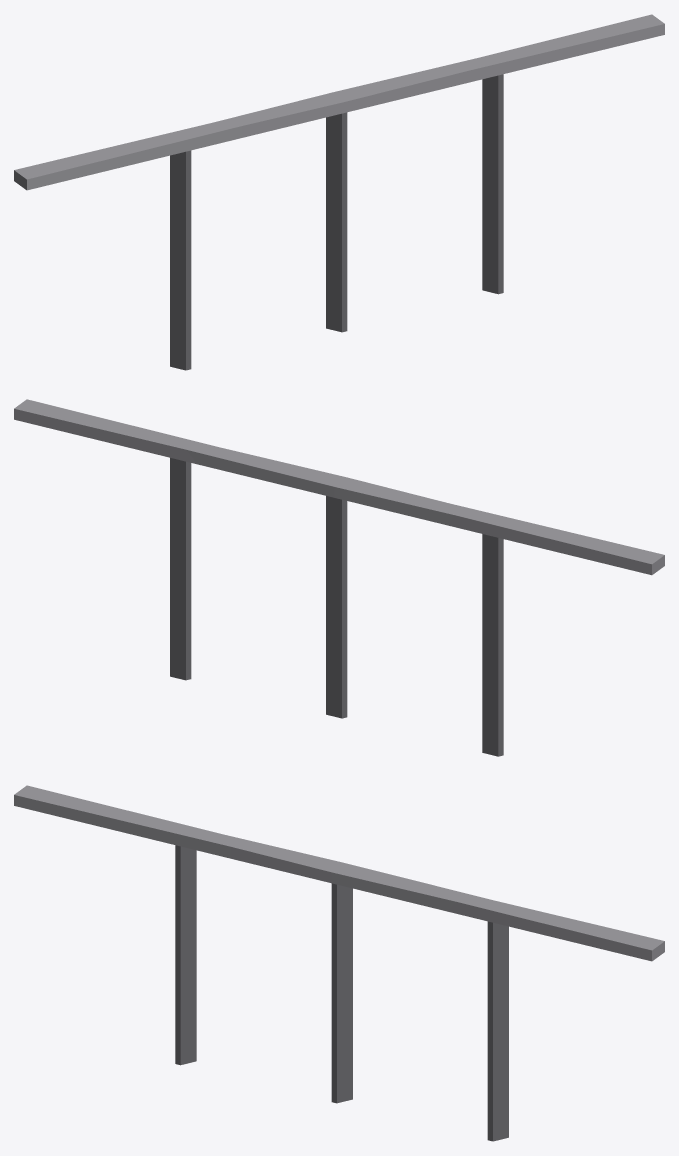
The model's file is worlds_SM_Bld_Railing_01.gltf.
3 views of the same model, one above another, from view 1: azimuth 30°, elevation 25°; view 2: azimuth 150°, elevation 25°; view 3: azimuth 330°, elevation 25° (orthographic).
Parts seen in each view (by area): view 1: SM_Bld_Railing_01; view 2: SM_Bld_Railing_01; view 3: SM_Bld_Railing_01.
Part boxes in pixels (x1,y1,x2,y2): SM_Bld_Railing_01: (14, 14, 664, 370); SM_Bld_Railing_01: (14, 399, 664, 756); SM_Bld_Railing_01: (14, 785, 664, 1141).
Bounding box in the file's own units: 2.86 × 0.9882 × 0.1.
Materials: 1 (1 with a texture image).
